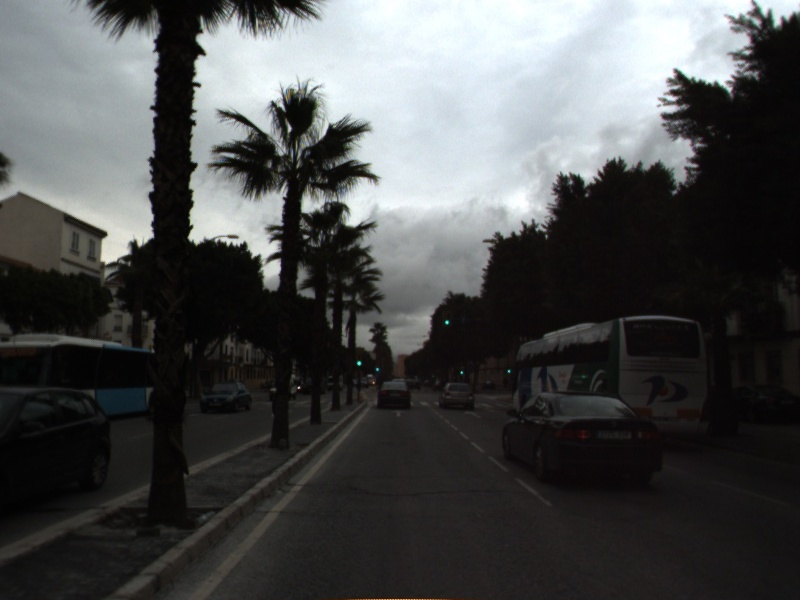STRAIGHT: (461, 408, 483, 420), (390, 407, 409, 418)
